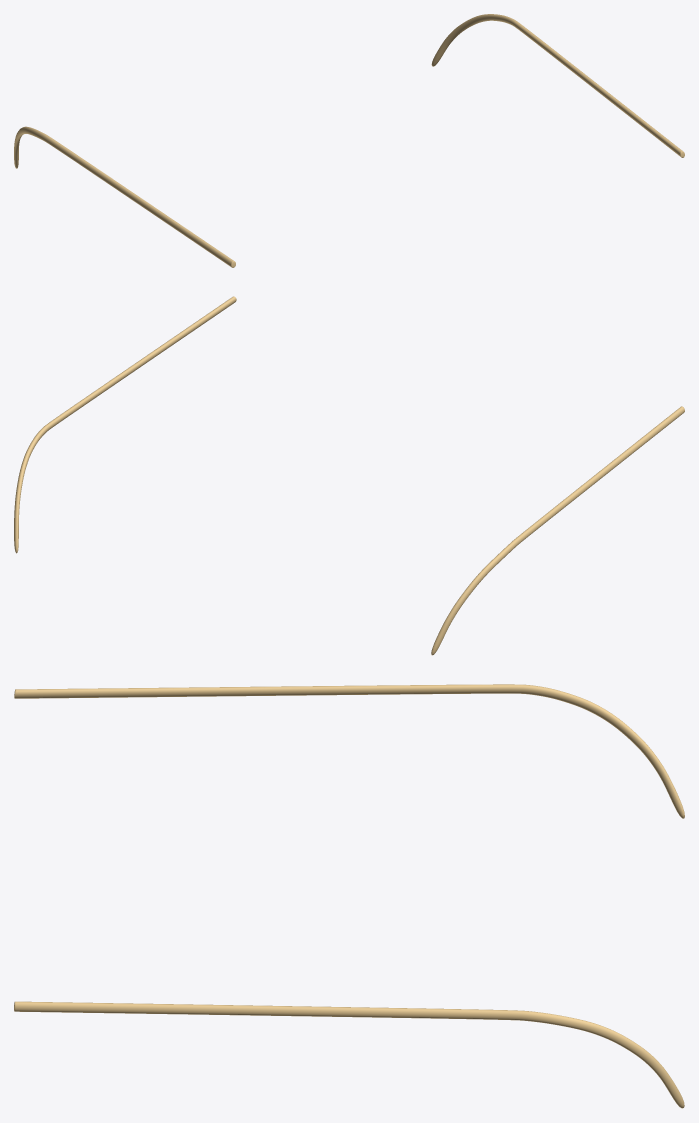
The model's file is glassesArms.glb.
The picture shows the model from 3 angles, top to bottom: view 1: azimuth 30°, elevation 25°; view 2: azimuth 150°, elevation 25°; view 3: azimuth 270°, elevation 25°; orthographic projection. The views are drawn at different scales.
Visible parts, largest first — view 1: glasses arms baked; view 2: glasses arms baked; view 3: glasses arms baked.
Boxes of the visible parts, x1=… form: glasses arms baked: x1=14, y1=14, x2=684, y2=267; glasses arms baked: x1=14, y1=296, x2=684, y2=655; glasses arms baked: x1=14, y1=684, x2=684, y2=1108.
Bounding box in the file's own units: 0.1315 × 0.022 × 0.1129.
